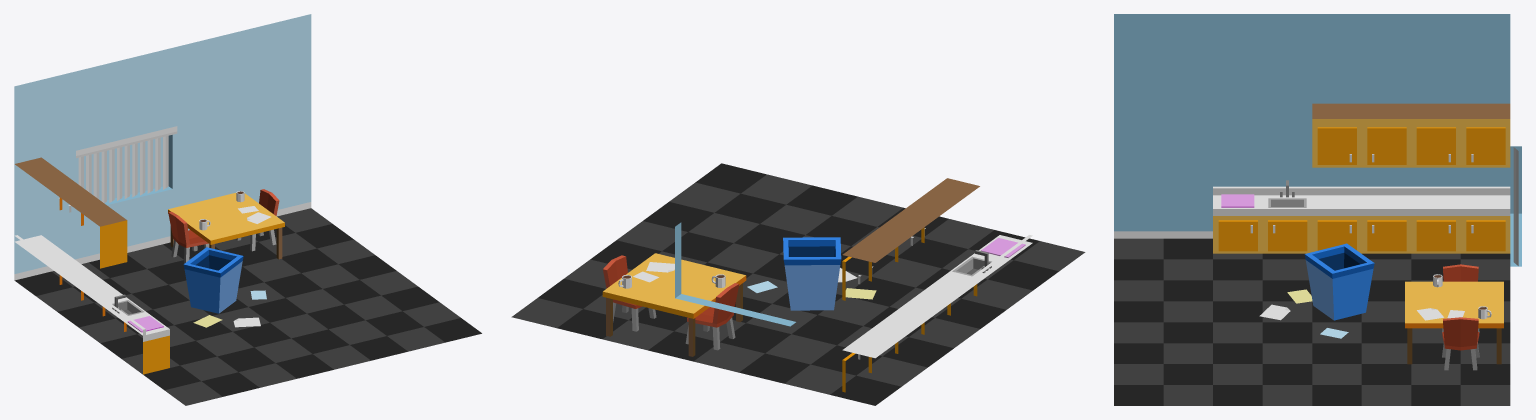
The model's file is office.glb.
3 views of the same model, side by side, from view 1: azimuth 30°, elevation 25°; view 2: azimuth 150°, elevation 25°; view 3: azimuth 270°, elevation 25° (orthographic). The views are drawn at different scales.
Parts seen in each view (by area): view 1: Room, Trash, Chair, Chair.001; view 2: Room, Trash, Chair, Chair.001; view 3: Room, Trash, Chair.001, Chair.
Part boxes in pixels (left/top/right/bottom): Room: left=14, top=14, right=481, bottom=405; Trash: left=183, top=247, right=243, bottom=313; Chair: left=168, top=211, right=209, bottom=263; Chair.001: left=235, top=189, right=279, bottom=251; Room: left=511, top=163, right=1085, bottom=405; Trash: left=783, top=237, right=841, bottom=310; Chair: left=685, top=283, right=739, bottom=350; Chair.001: left=603, top=255, right=656, bottom=331; Room: left=1114, top=14, right=1521, bottom=405; Trash: left=1304, top=243, right=1374, bottom=320; Chair.001: left=1442, top=317, right=1479, bottom=370; Chair: left=1442, top=264, right=1479, bottom=332.
Bounding box in the file's own units: 8 × 5 × 8.23.
Materials: 1 (1 with a texture image).
